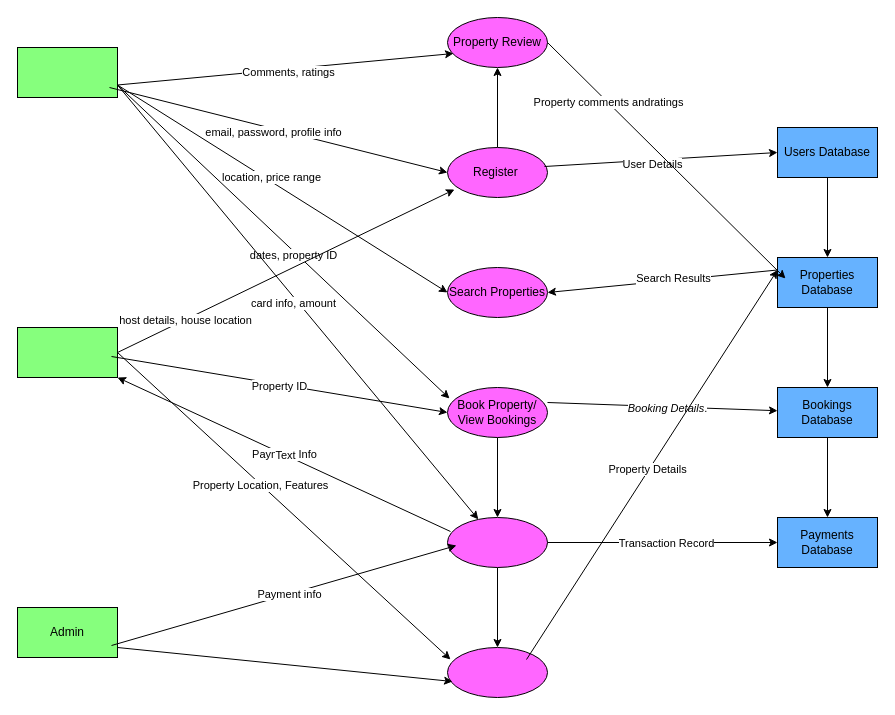
Image size: 895x715. Some labels were removed from this diagram. Here are the shapes that lost their labels. From the top down, the centre of each, then its label:
At [67,72]: "Guest".
At [67,352]: "Host".
At [497,542]: "Process Payments".
At [497,672]: "Add Property/Delete".
